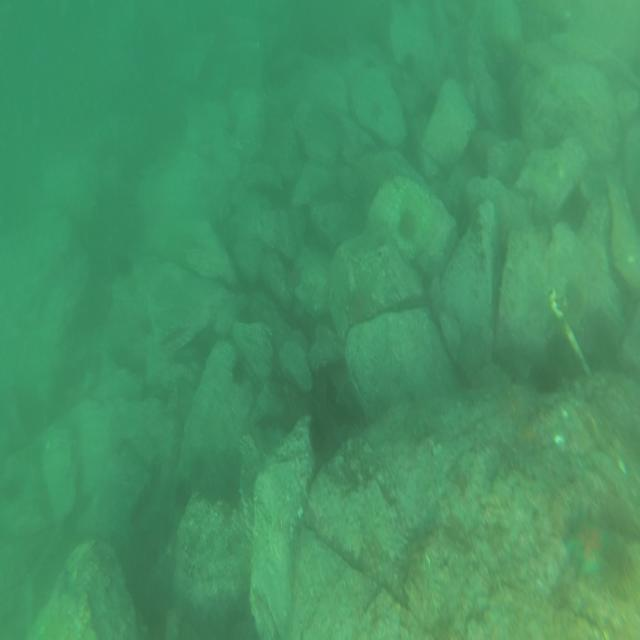echinus: (309, 408, 325, 460), (397, 205, 418, 244), (228, 360, 247, 388), (172, 483, 192, 505)
starfish: (564, 518, 614, 574)
